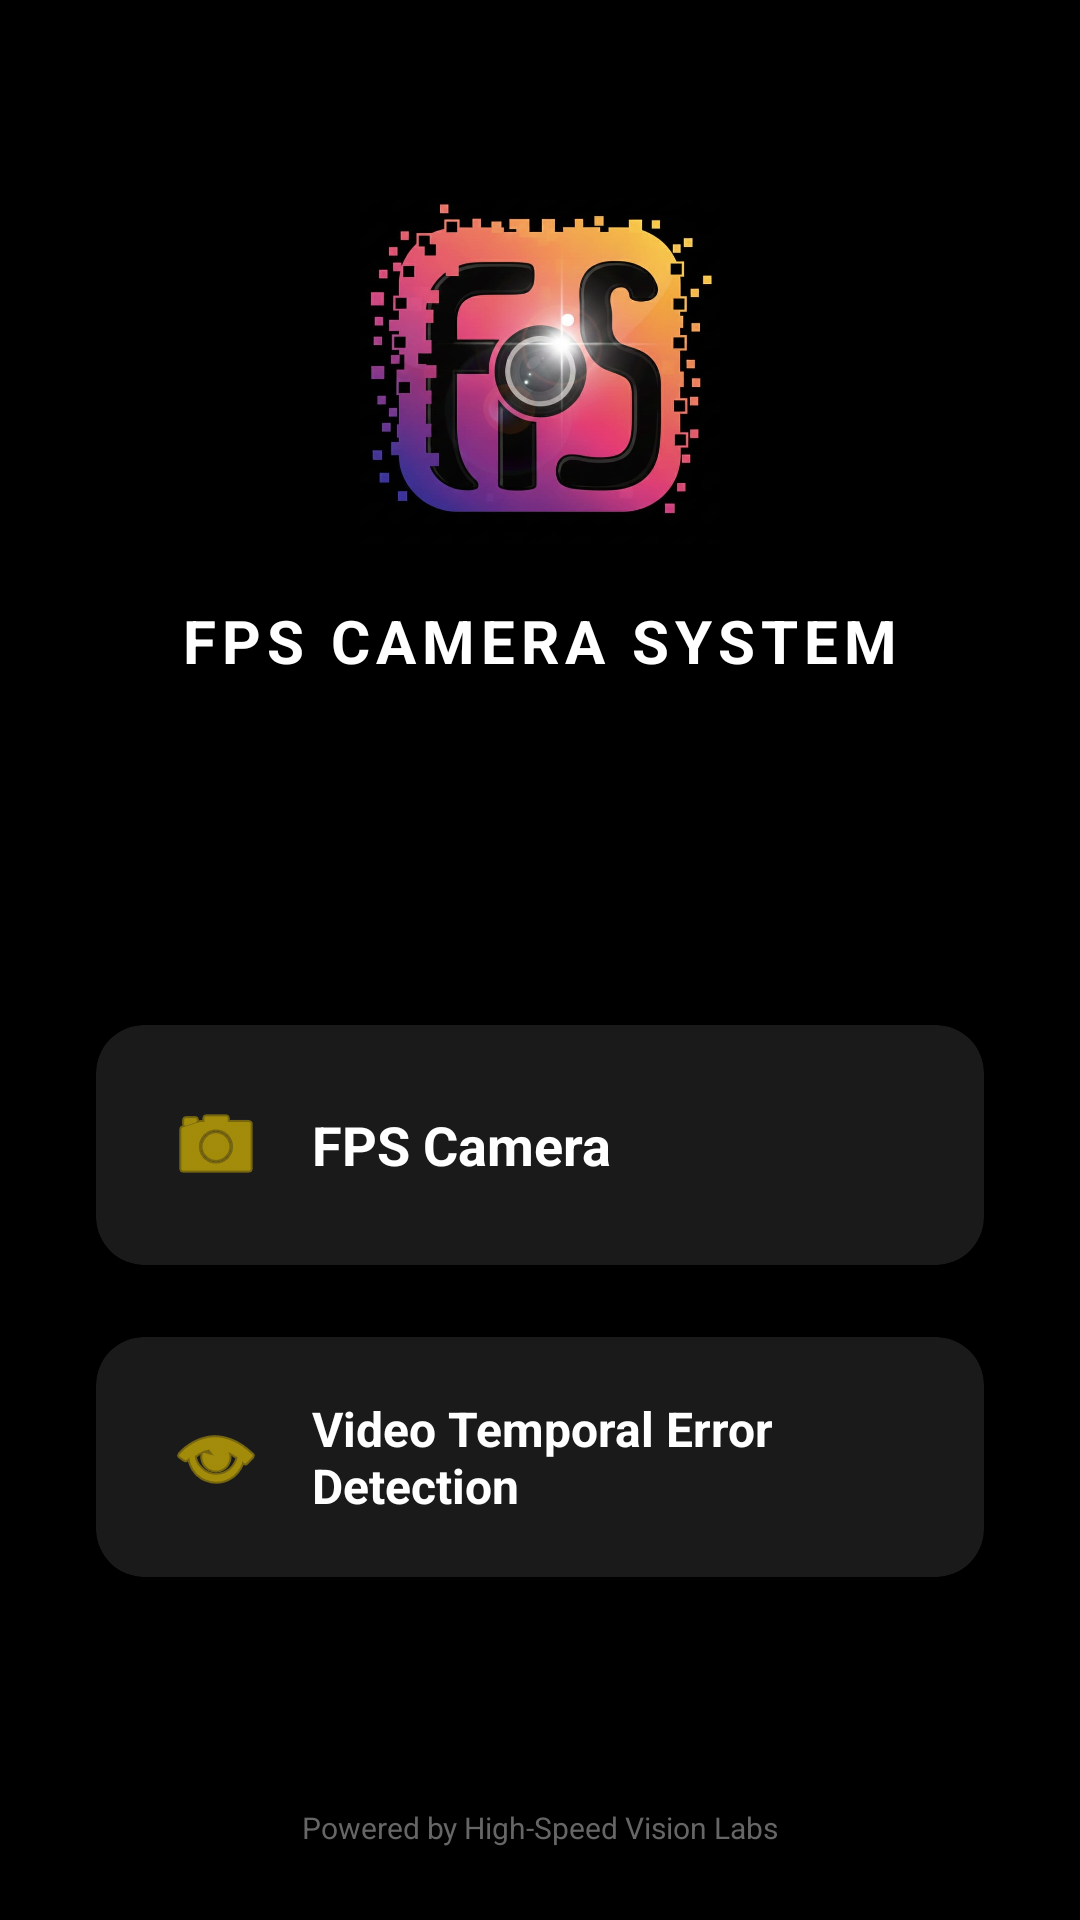

Icons on this 1080px×1920px Android screen, each with the point to tap as (x=x, y=y):
view: (x=216, y=1459)
